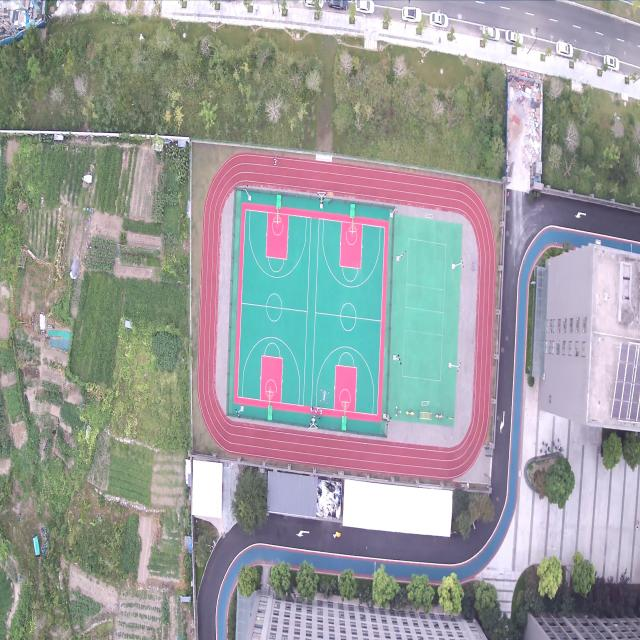UAV: (320, 388, 330, 404)
